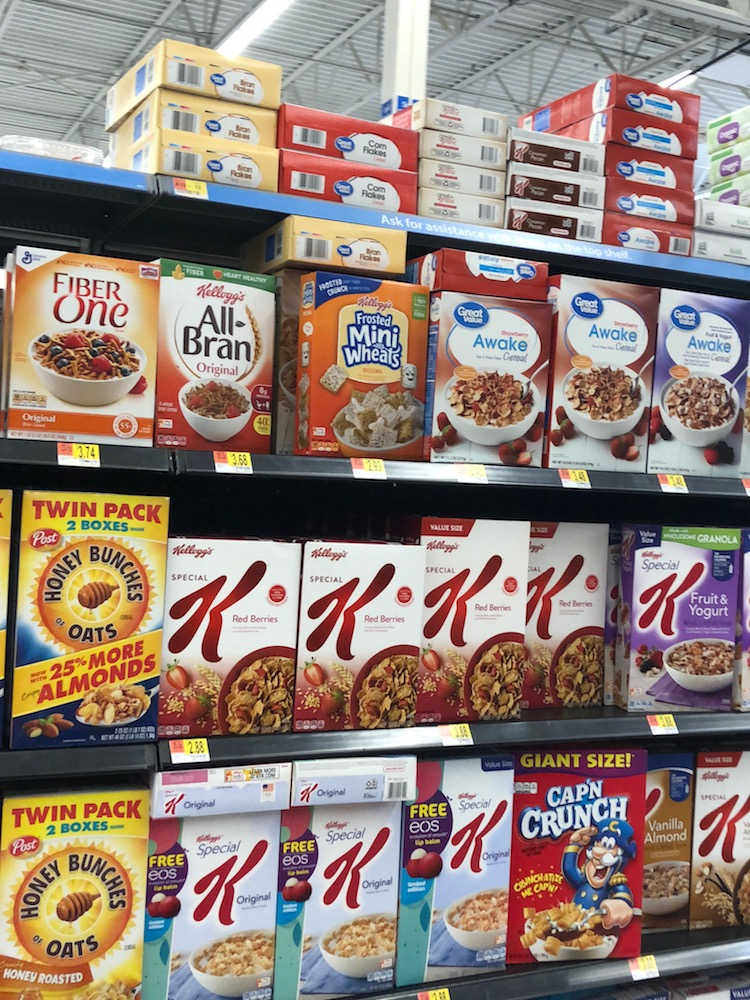Frosted Mini Original -9295869: (308, 277, 421, 458)
